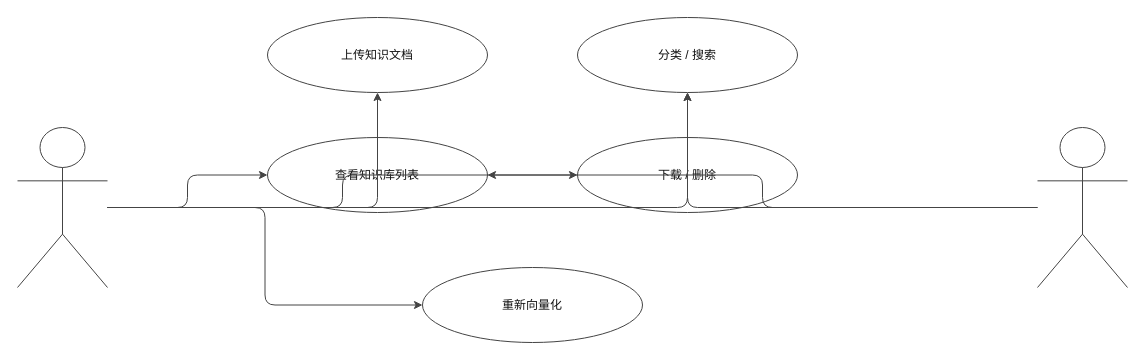
Some shapes in this 1145 by 360 pixel diagram are drawn without their labels. Here are the shapes that lost their labels. From the top down, the centre of each, then its label:
the point at 62,207: 求职者
the point at 1082,207: HR / 讲师
